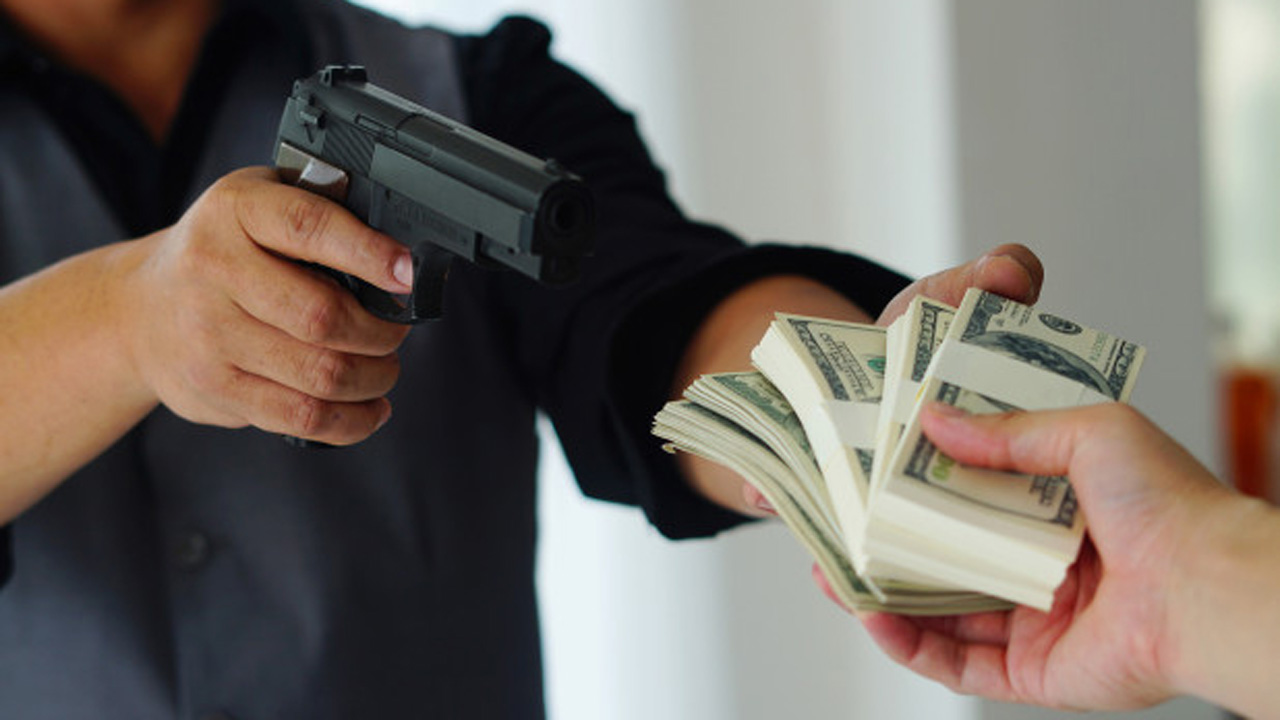gun: (234, 48, 596, 352)
